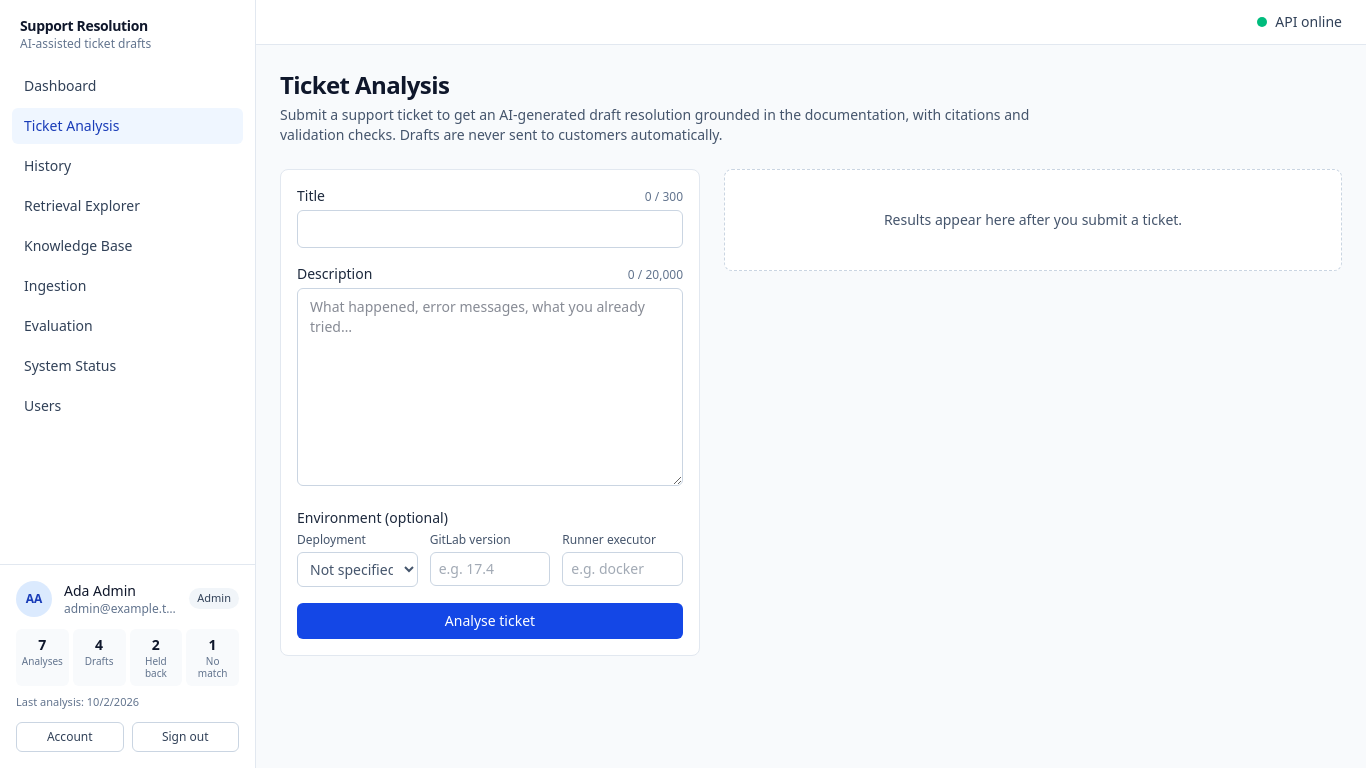
Test: Ticket Analysis › shows API errors with the request ID instead of a blank screen
The image size is (1366, 768).
Type "Runner TLS error" into the field labelled "Title" at (490, 229), box x1=297 y1=210 x2=683 y2=248
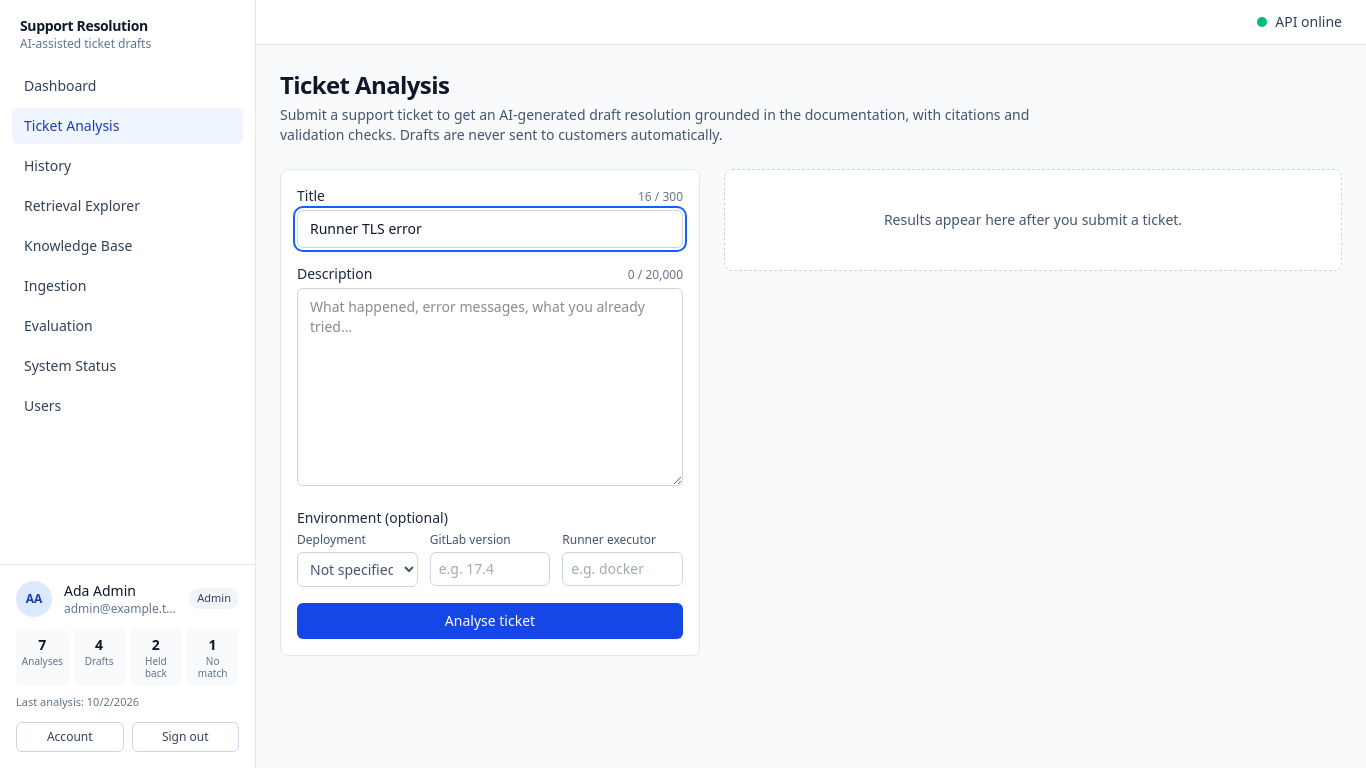
Type "x509: certificate signed by unknown authority" into the text box labelled "Description" at (490, 387), box x1=297 y1=288 x2=683 y2=486
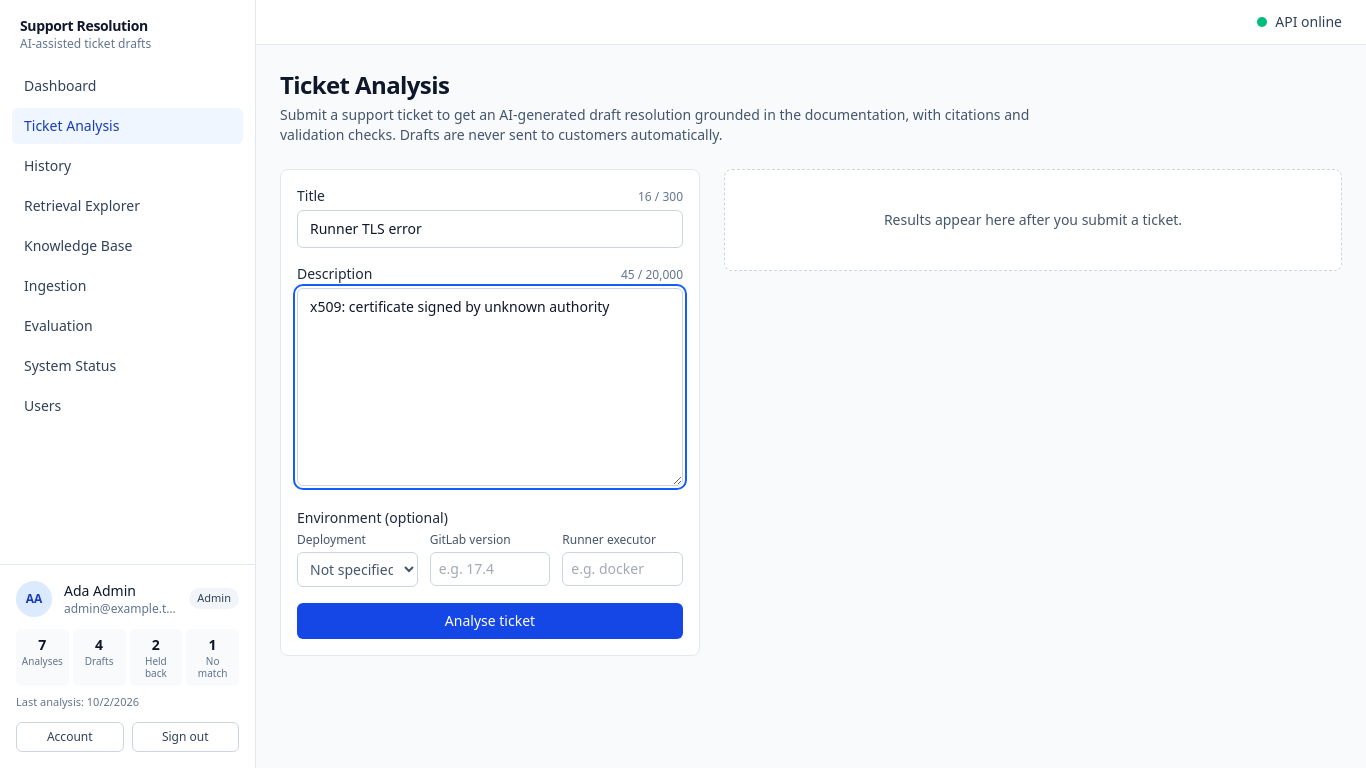
Click the button "Analyse ticket" at (490, 621), box x1=297 y1=603 x2=683 y2=639
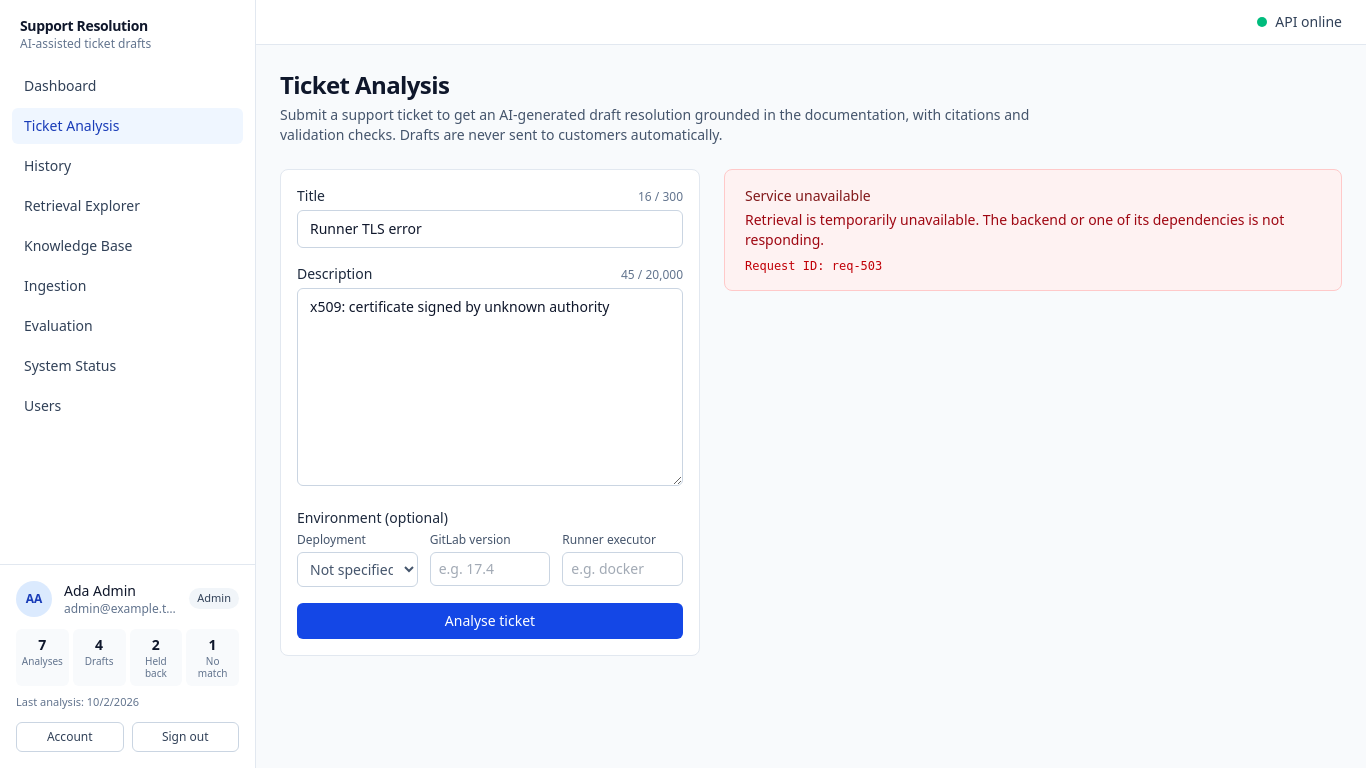
Expected: the heading "Service unavailable" is shown, x1=745 y1=186 x2=871 y2=205
Expected: the text "Request ID: req-503" is shown, x1=745 y1=259 x2=882 y2=273
